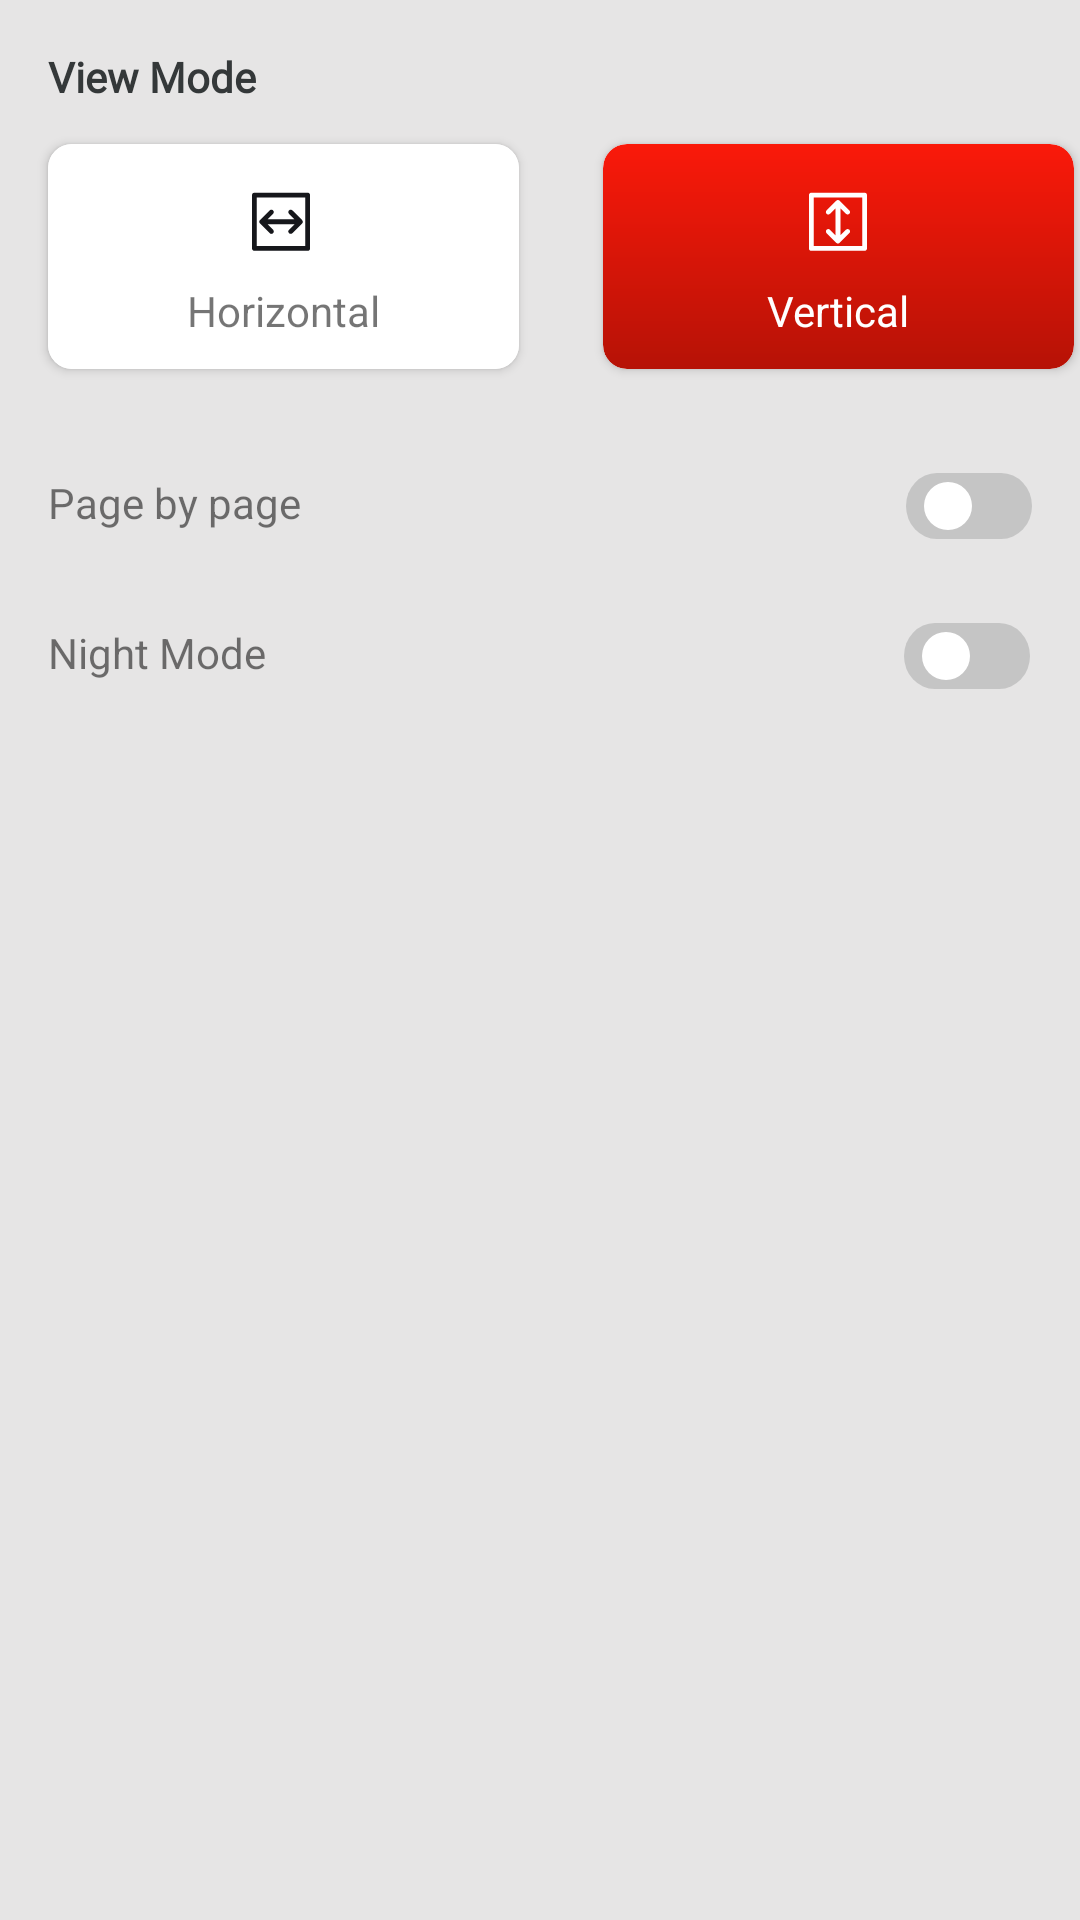

Icons on this 1080x1920 Android screen, each with its box as (x1, y1, x2, y2):
horizantalimg: (252, 192, 310, 251)
